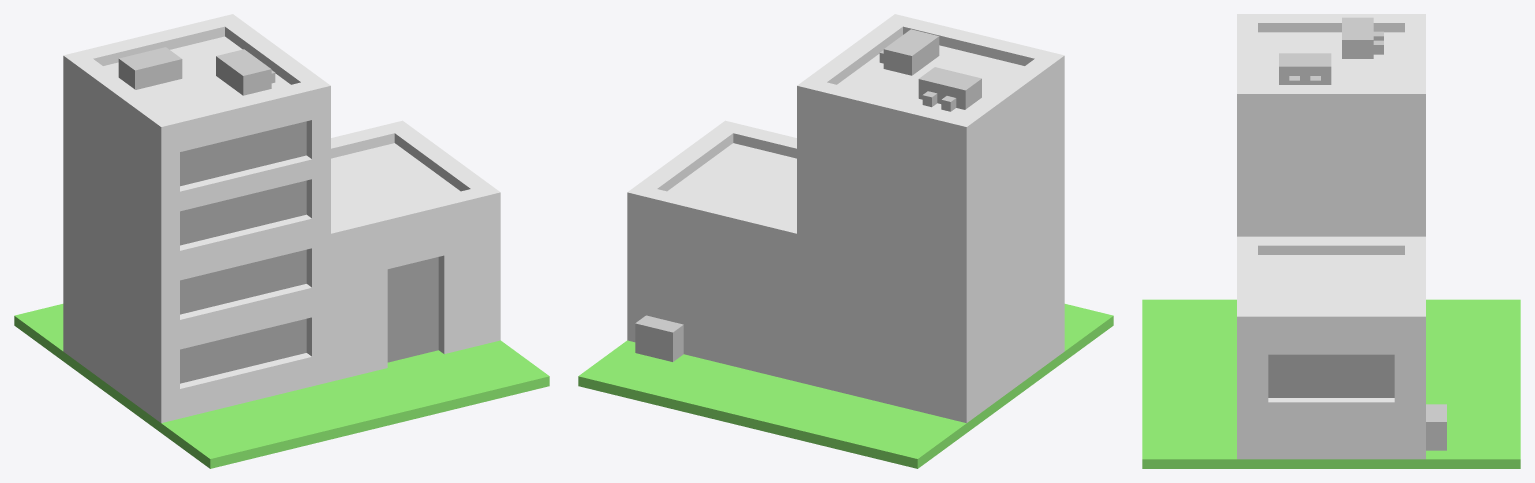
3 views of the same model, side by side, from view 1: azimuth 30°, elevation 25°; view 2: azimuth 150°, elevation 25°; view 3: azimuth 270°, elevation 25° (orthographic). The views are drawn at different scales.
Visible parts, largest first — view 1: ObjObject; view 2: ObjObject; view 3: ObjObject.
Boxes of the visible parts, x1,y1,x2,y2 form: ObjObject: (14,14,549,468); ObjObject: (578,14,1113,468); ObjObject: (1142,14,1520,468).
Bounding box in the file's own units: 2 × 2 × 1.78.
